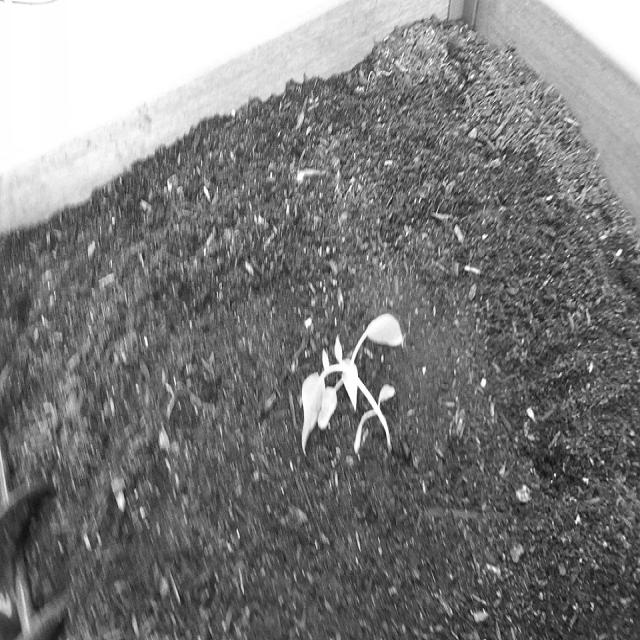Unhealthy: (296, 306, 411, 470)
